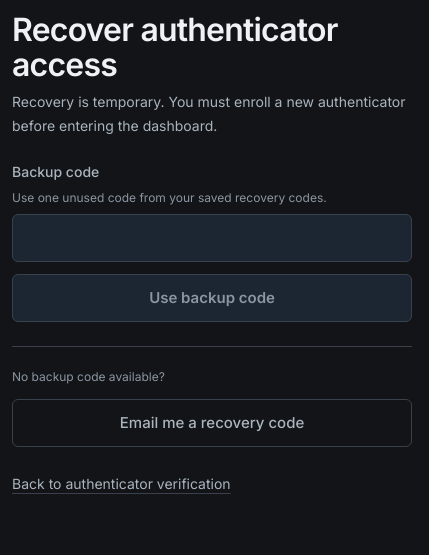
MfaRecoveryForm › associates a backup-code failure with the recovery field
Type "ABCD-1234" into the field labelled "Backup code" at (212, 238), box [12,214,412,262]
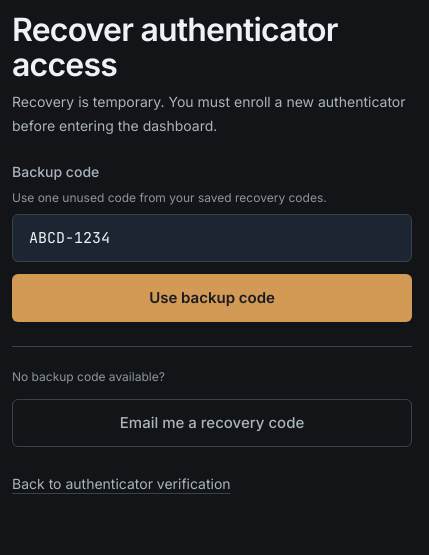
Submit the form named "Backup code recovery", box [12,162,412,322]
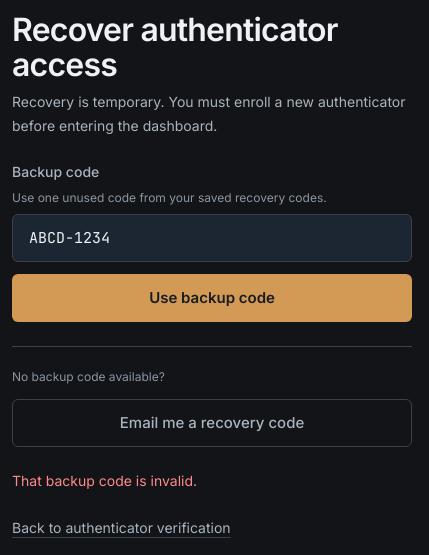
Expected: the message shows "backup code is invalid", [12,472,197,489]
